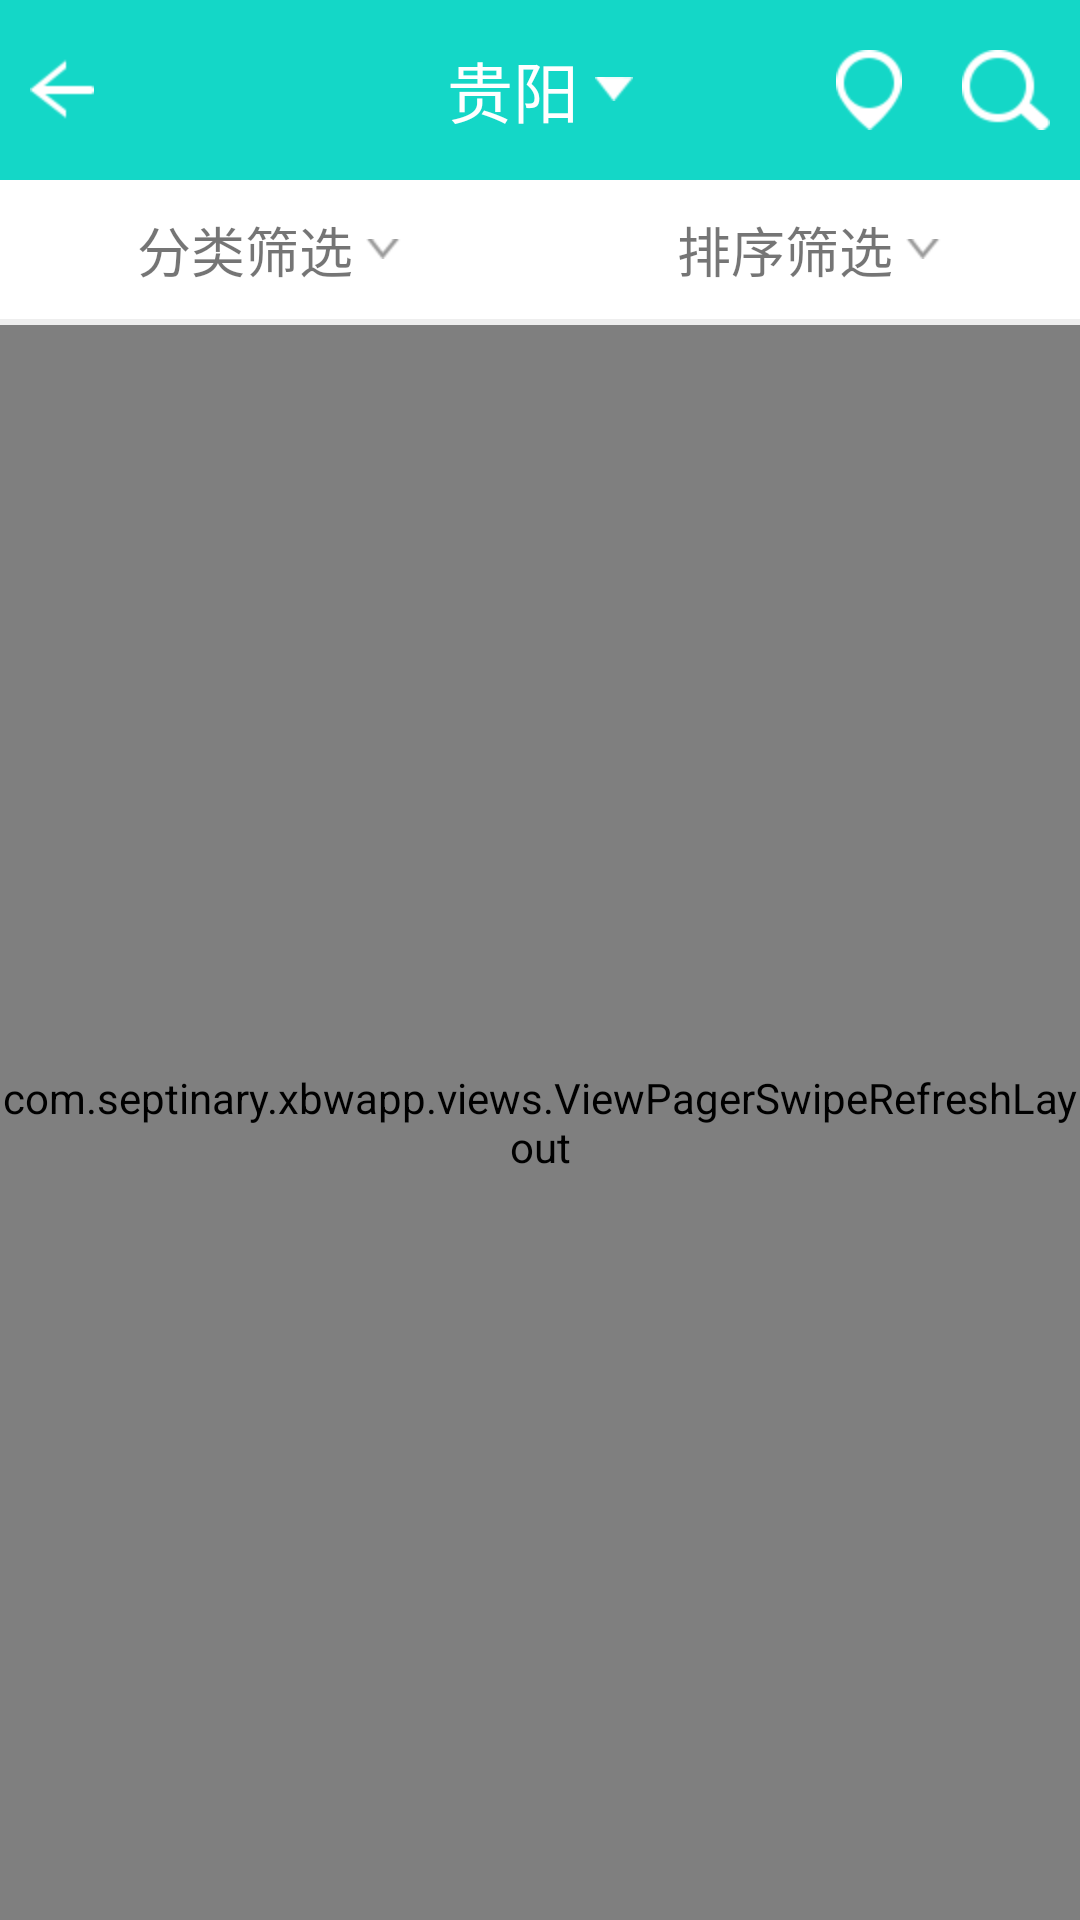

Where to tap for icons on this 1080×1920 app screen, as point (x, y):
back: point (62, 89)
coord: point (869, 90)
search: point (1006, 90)
